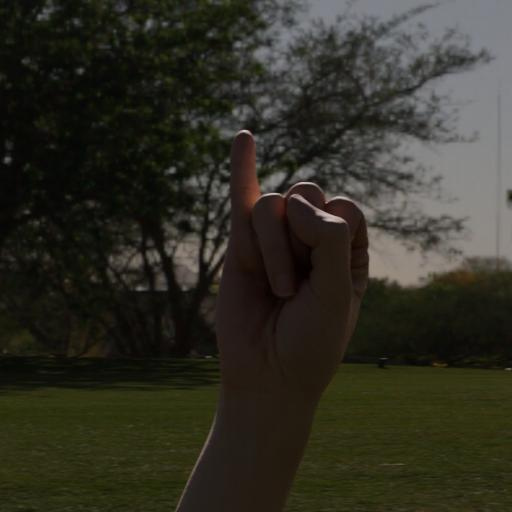I: (206, 126, 373, 392)
